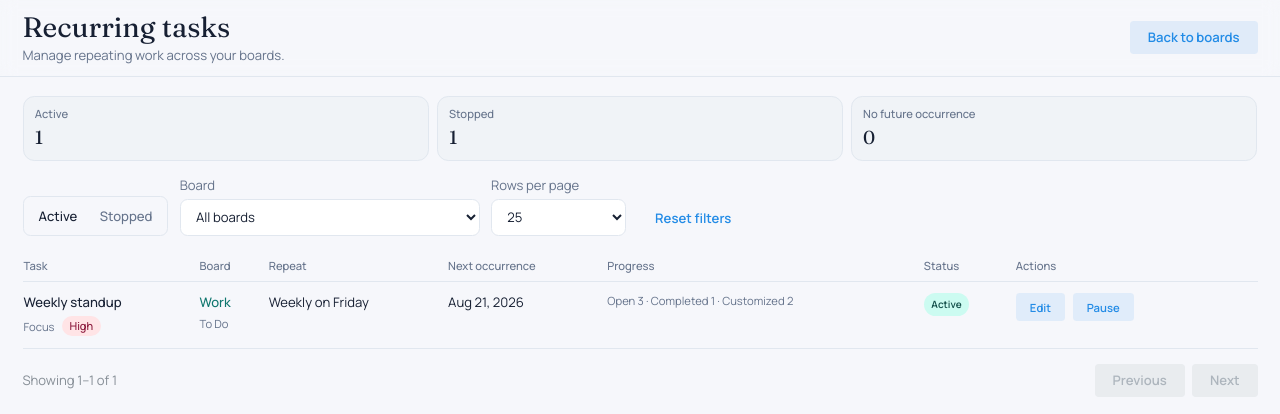
it: Recurring tasks page › renders stopped rows with an em dash for next occurrence
Click the tab "Stopped".
click(126, 216)  # box [89,201,164,231]
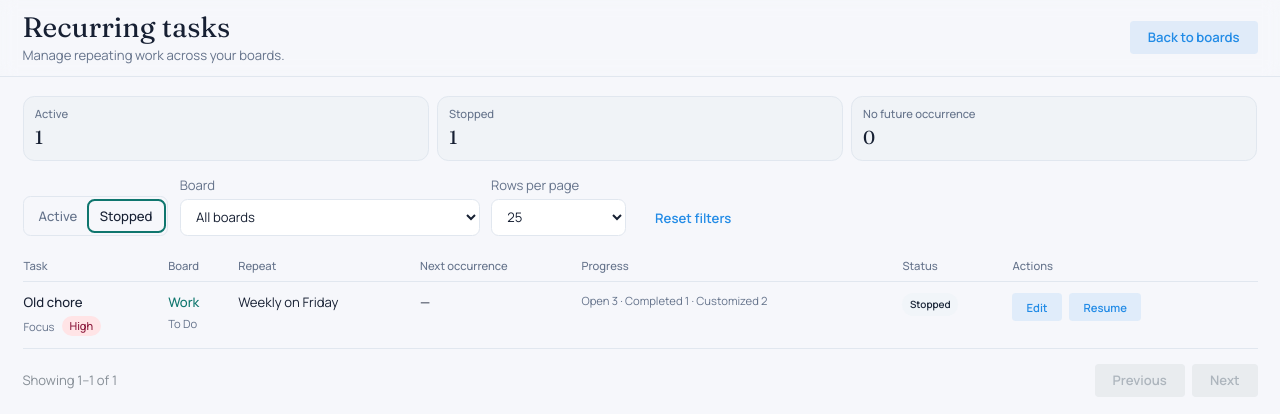
Result: the text "—" is shown at [419,281,580,348]
